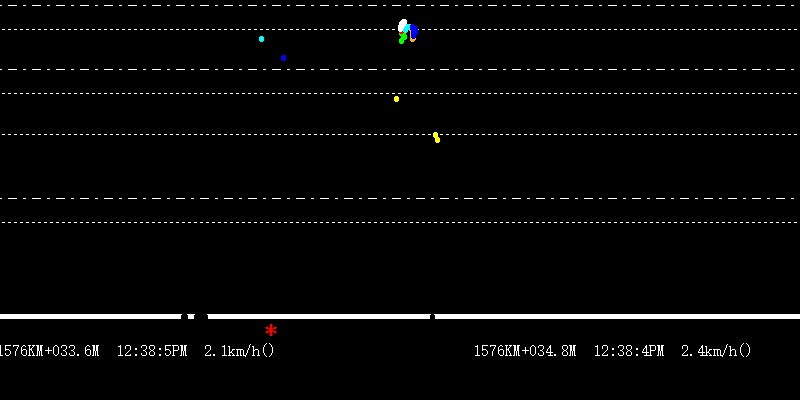face_2: (397, 17, 417, 47)
star: (261, 322, 280, 338)
